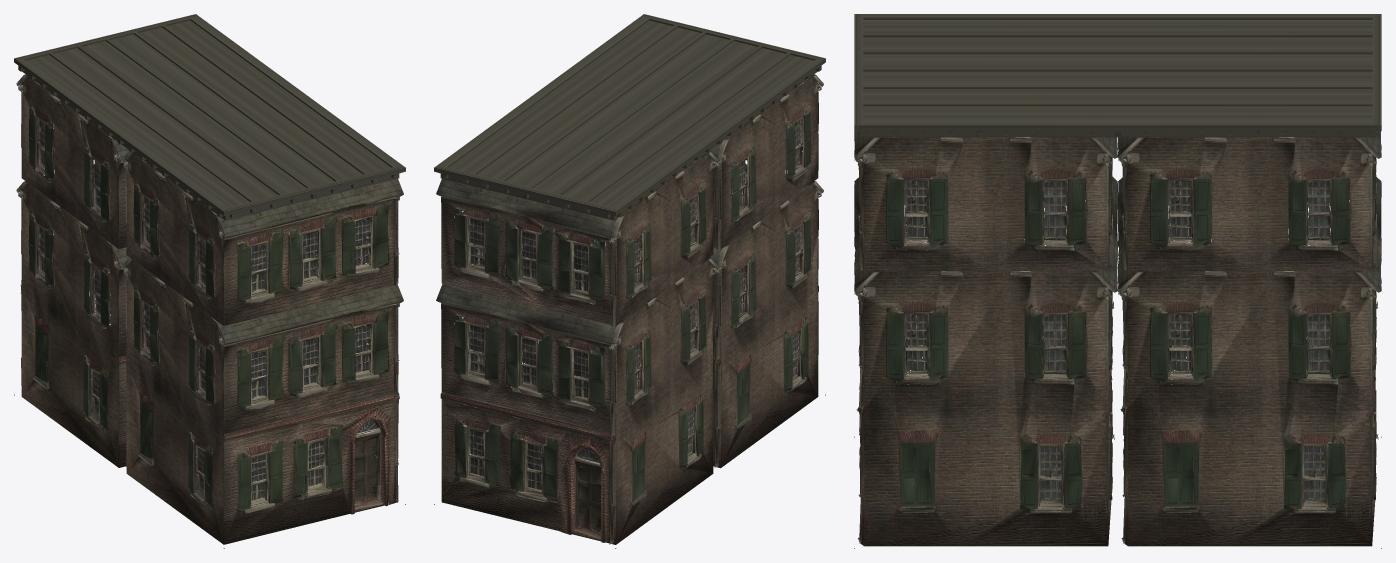
Rendered from bldg-warehouse-street.glb.
3 renders of one model, left to right at view 1: azimuth 30°, elevation 25°; view 2: azimuth 150°, elevation 25°; view 3: azimuth 270°, elevation 25°, orthographic. The views are drawn at different scales.
Visible parts, largest first — view 1: bldg-warehouse-street; view 2: bldg-warehouse-street; view 3: bldg-warehouse-street.
Boxes of the visible parts, x1,y1,x2,y2 form: bldg-warehouse-street: [14, 14, 405, 548]; bldg-warehouse-street: [434, 14, 825, 548]; bldg-warehouse-street: [854, 14, 1381, 548].
Size of the model in its own units: 7 by 12.4 by 14.
Materials: 1 (1 with a texture image).
